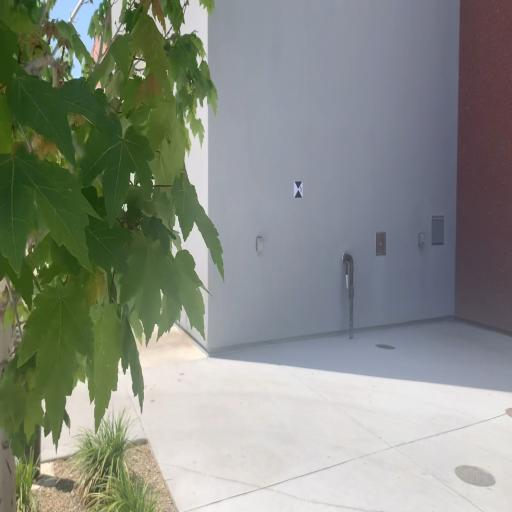target5: (294, 181, 302, 198)
